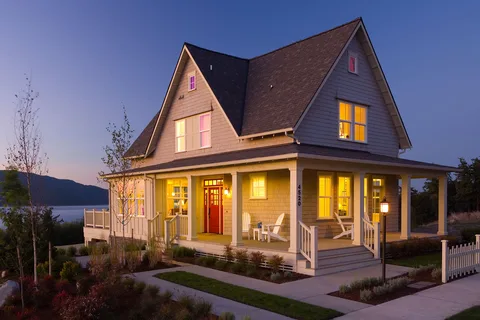private_hause: (122, 46, 411, 255)
